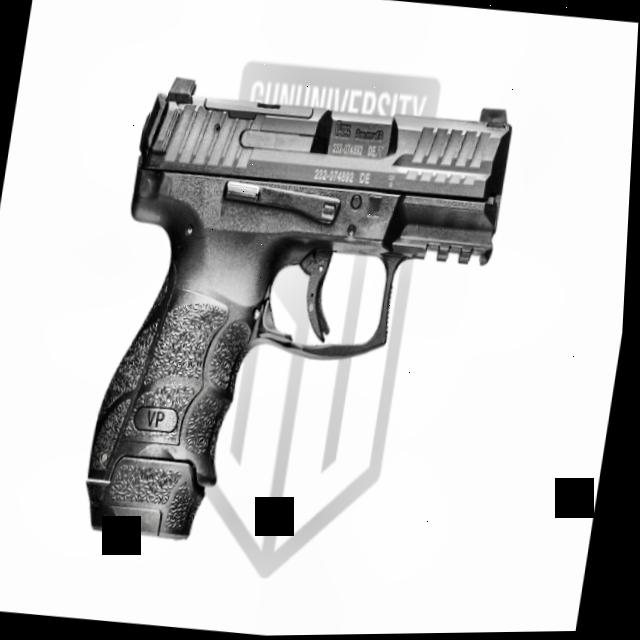HKVP9: (78, 62, 521, 581)
